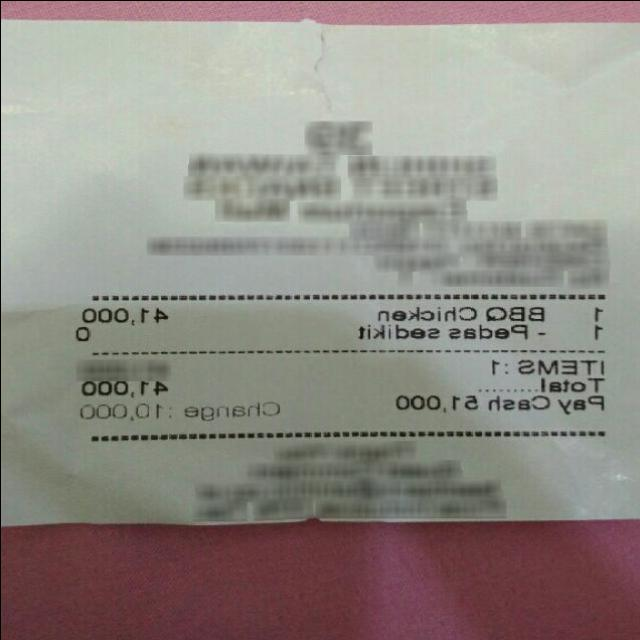kertas: (1, 21, 638, 524)
